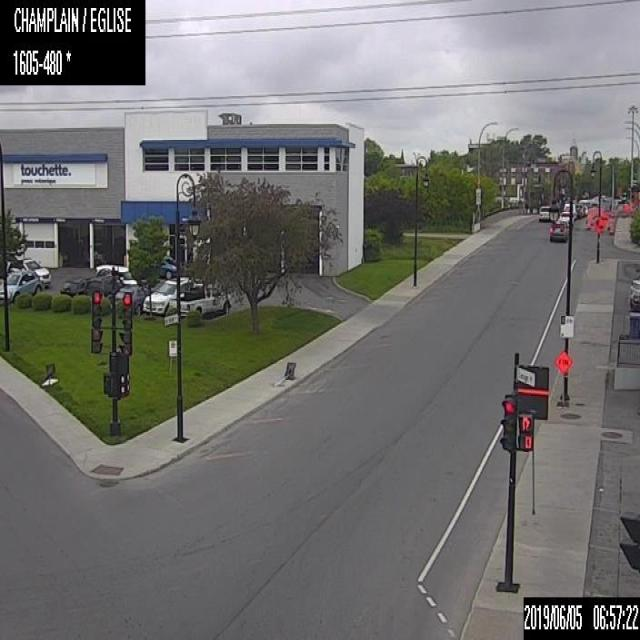construction: (554, 350, 572, 408), (273, 362, 296, 389), (40, 361, 59, 386), (590, 211, 605, 233), (608, 216, 614, 232), (586, 212, 590, 229)
vehicle: (142, 277, 203, 316), (169, 280, 231, 316), (0, 267, 44, 301), (6, 257, 50, 286), (115, 284, 155, 314), (84, 272, 123, 296), (95, 262, 137, 284), (59, 275, 92, 295), (156, 255, 176, 279), (549, 222, 566, 242), (629, 278, 639, 309), (538, 204, 551, 222), (559, 210, 573, 224), (563, 202, 575, 218), (556, 218, 568, 234), (575, 203, 583, 217), (582, 204, 588, 215)
